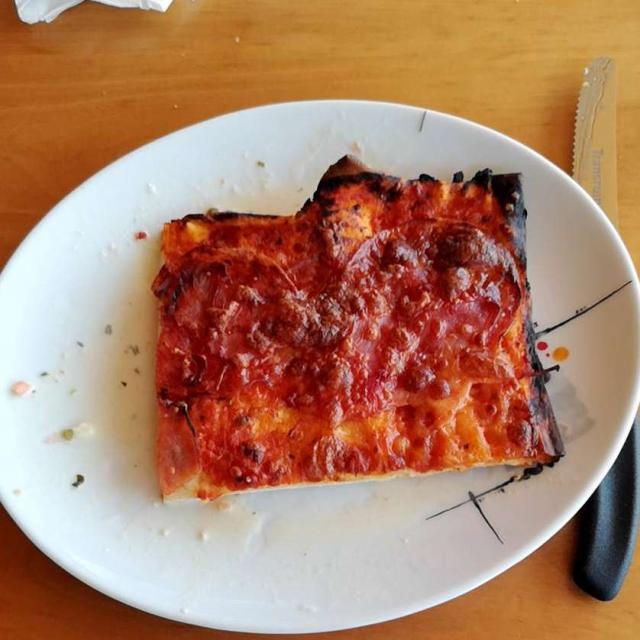pizza-with-ham-baked: (157, 163, 549, 498)
salami: (170, 221, 513, 389)
